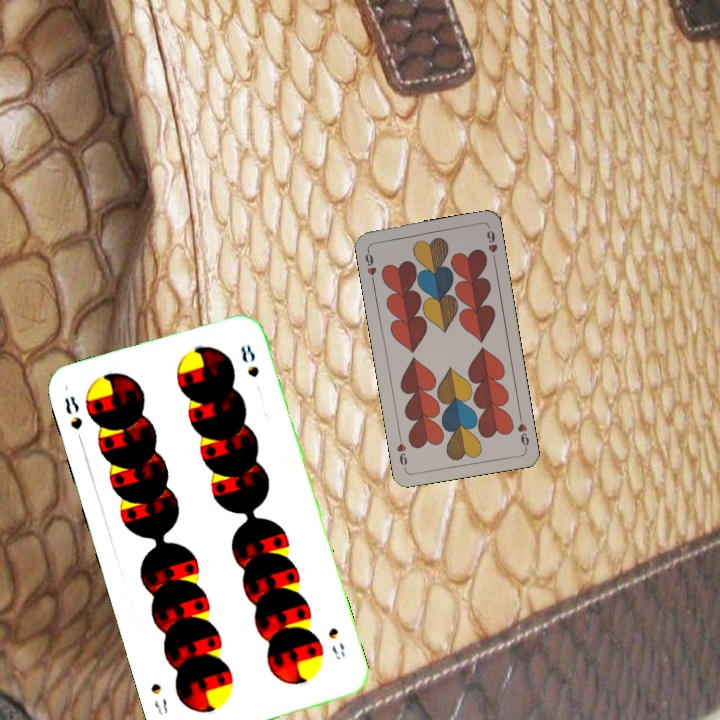H9: (513, 411, 532, 451), (361, 245, 379, 285)
S8: (60, 392, 86, 448), (324, 623, 348, 662)
